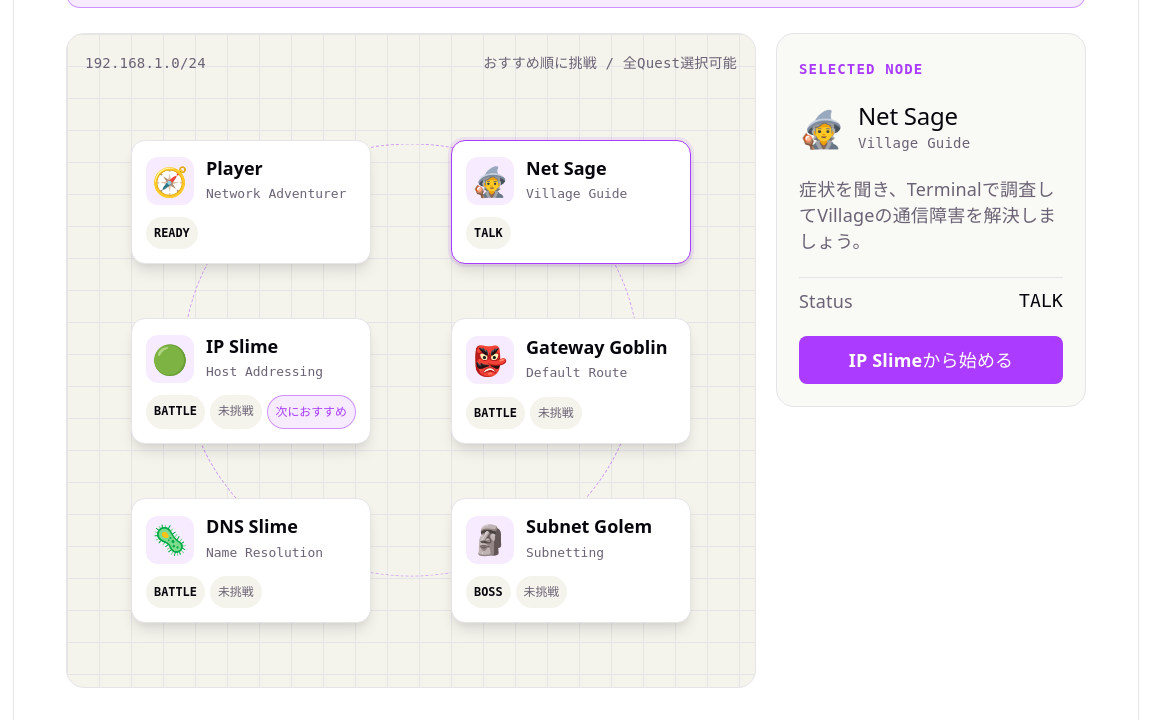
Test case: LAN Village › routes the selected monster through its request before Battle
This screenshot has width=1152, height=720.
(page scrolled)
Click the button "🦠 DNS Slime Name Resolution BATTLE 未挑戦" at (251, 561), box [131, 498, 371, 623]
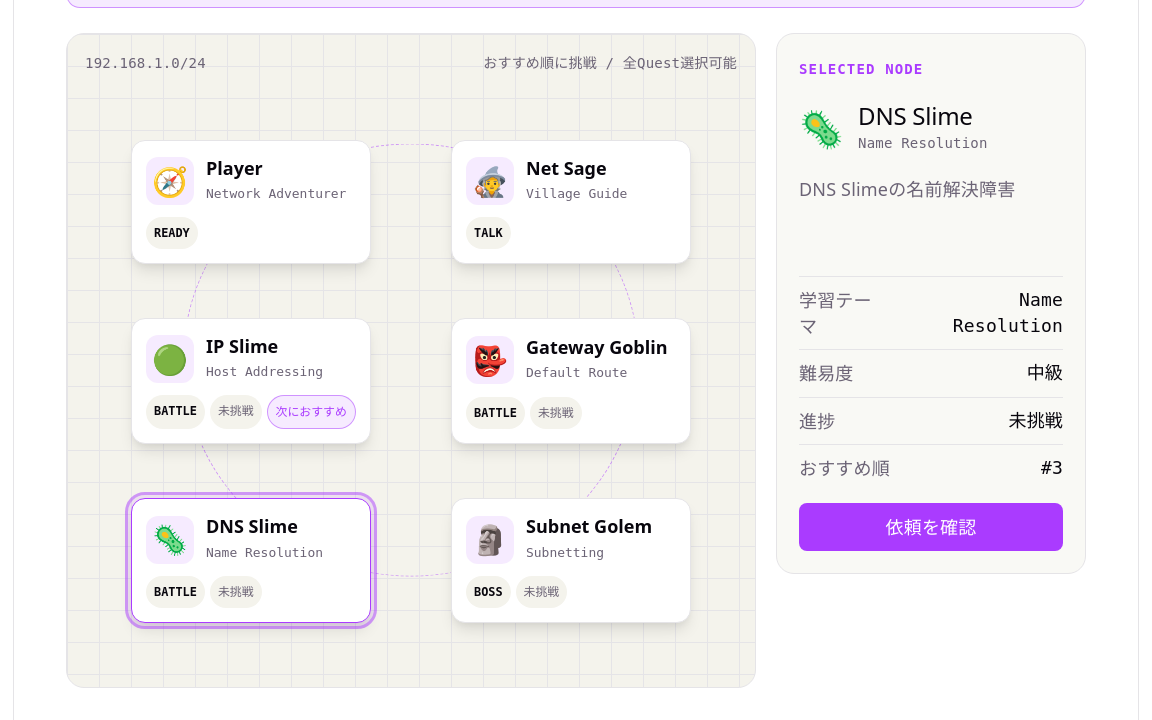
expect the heading "DNS Slime" is shown: met, box [858, 102, 988, 130]
